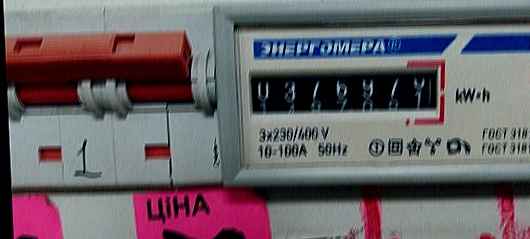0: (252, 77, 267, 100)
1: (409, 89, 421, 109)
3: (280, 80, 295, 102)
6: (331, 74, 347, 98)
7: (305, 76, 321, 101), (383, 75, 399, 98)
9: (357, 75, 372, 97)
screen: (237, 49, 449, 135)
